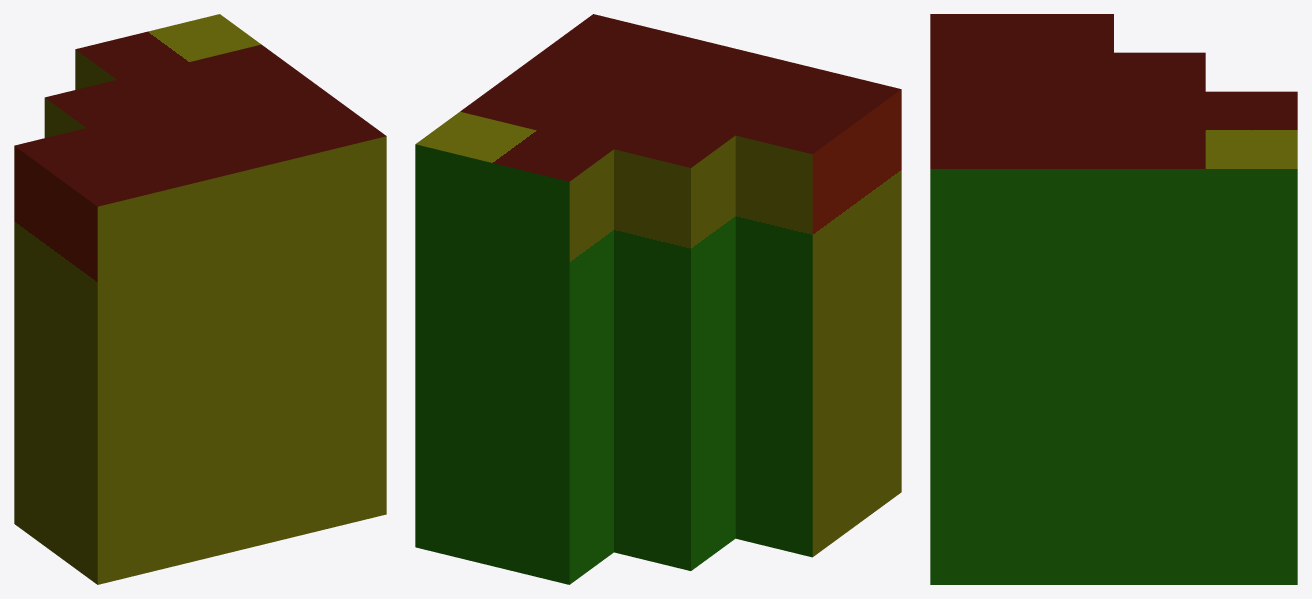
File: block_30.fbx
3 renders of one model, left to right at view 1: azimuth 30°, elevation 25°; view 2: azimuth 150°, elevation 25°; view 3: azimuth 270°, elevation 25°, orthographic. The views are drawn at different scales.
Parts seen in each view (by area): view 1: box.015; view 2: box.015; view 3: box.015.
Part boxes in pixels (x1,y1,x2,y2): box.015: (14,14,386,584); box.015: (415,14,901,584); box.015: (930,14,1297,584).
Bounding box in the file's own units: 4000 × 5000 × 4000.
